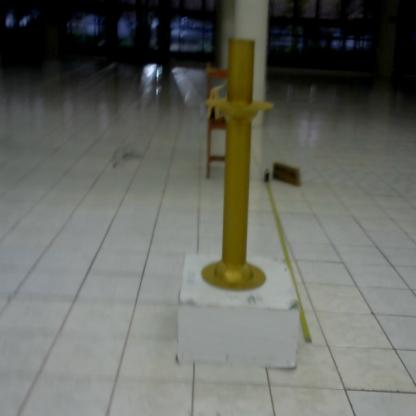pole: (196, 31, 280, 292)
